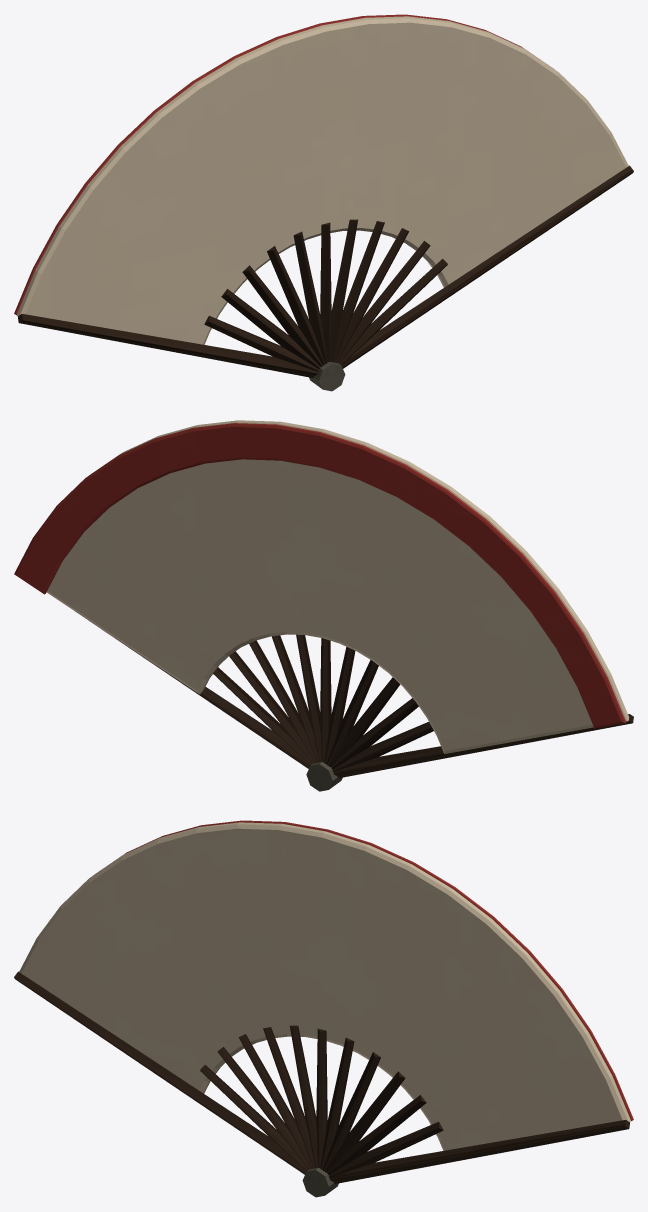
File: wpn_fan_01.glb
The picture shows the model from 3 angles, top to bottom: view 1: azimuth 30°, elevation 25°; view 2: azimuth 150°, elevation 25°; view 3: azimuth 330°, elevation 25°; orthographic projection.
Parts seen in each view (by area): view 1: wpn_fan_01; view 2: wpn_fan_01; view 3: wpn_fan_01.
Boxes of the visible parts, bbox=[...] form: wpn_fan_01: bbox=[14, 14, 633, 391]; wpn_fan_01: bbox=[14, 420, 633, 791]; wpn_fan_01: bbox=[14, 820, 633, 1197].
Bounding box in the file's own units: 0.5593 × 0.312 × 0.021.
Materials: 4 (4 with a texture image).
